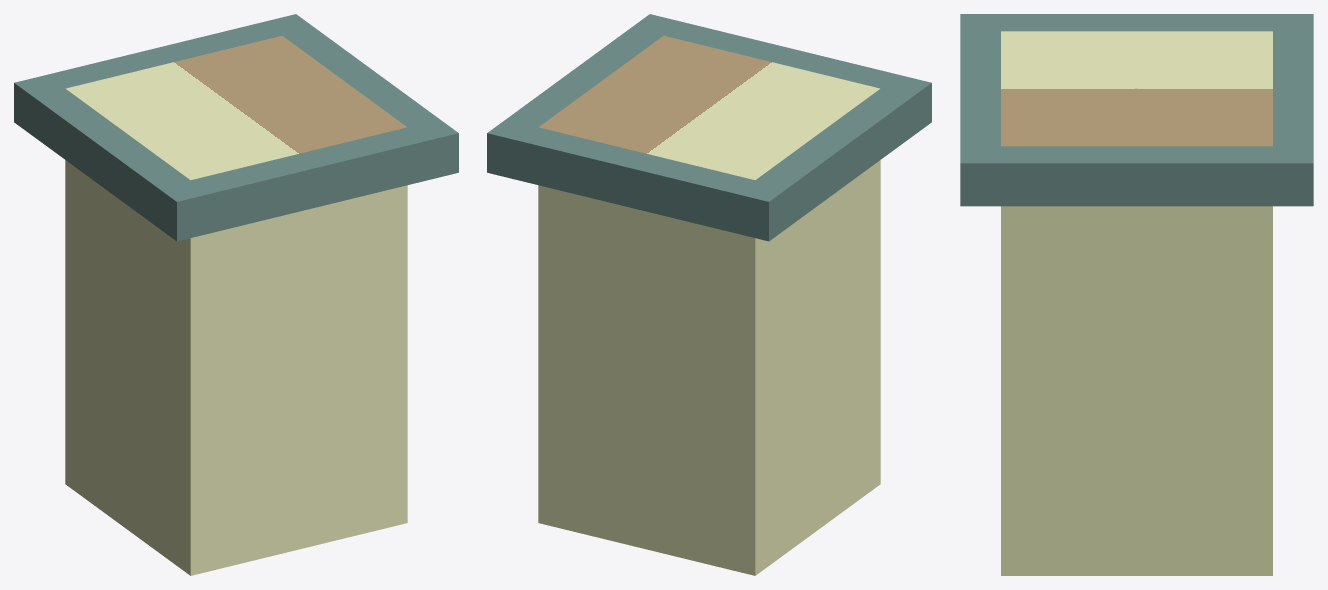
The model's file is PilarTorre02.fbx.
The picture shows the model from 3 angles, left to right: view 1: azimuth 30°, elevation 25°; view 2: azimuth 150°, elevation 25°; view 3: azimuth 270°, elevation 25°; orthographic projection. The views are drawn at different scales.
Visible parts, largest first — view 1: Cube.116; view 2: Cube.116; view 3: Cube.116.
Boxes of the visible parts, bbox=[...] form: Cube.116: bbox=[14, 14, 458, 575]; Cube.116: bbox=[487, 14, 931, 575]; Cube.116: bbox=[960, 14, 1313, 575].
Bounding box in the file's own units: 260 × 349 × 260.
